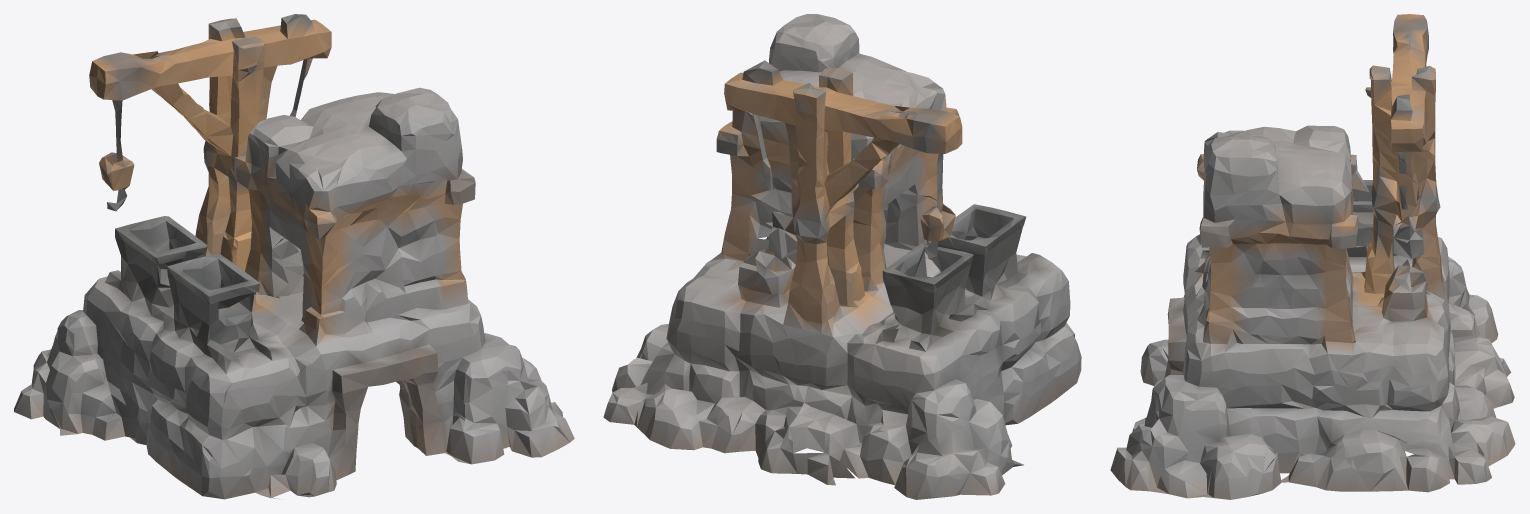
File: building_stone_quarry_lod2.glb
3 views of the same model, side by side, from view 1: azimuth 30°, elevation 25°; view 2: azimuth 150°, elevation 25°; view 3: azimuth 270°, elevation 25° (orthographic). The views are drawn at different scales.
Visible parts, largest first — view 1: world; view 2: world; view 3: world.
Boxes of the visible parts, x1,y1,x2,y2 form: world: [14, 14, 574, 499]; world: [603, 14, 1081, 499]; world: [1110, 14, 1515, 499].
Bounding box in the file's own units: 1.89 × 1.53 × 1.69.
